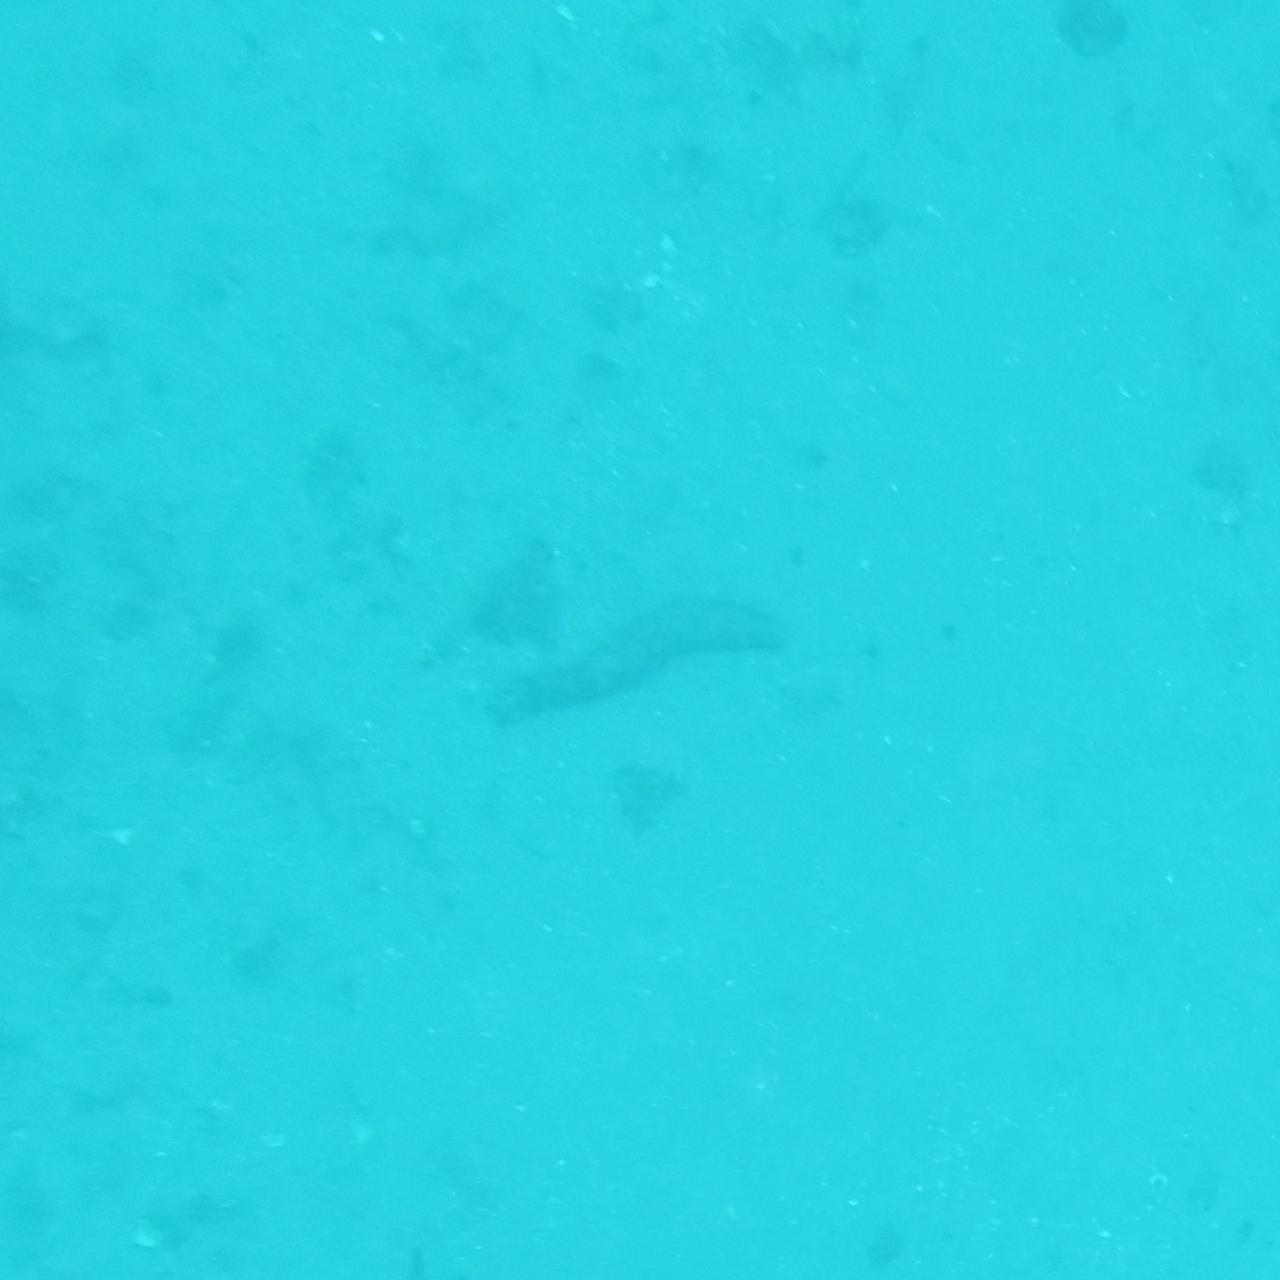Holothuria tubulosa: (484, 571, 796, 709)
